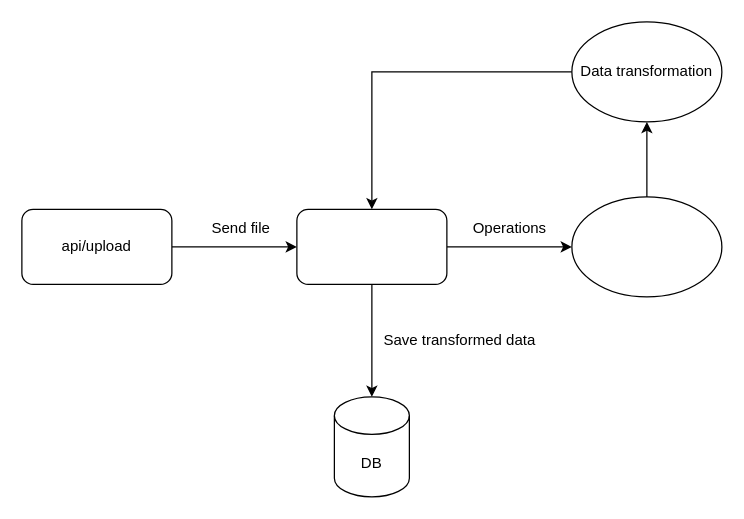
Image size: 744x519. Some labels were removed from this diagram. The centre of each missing label's shape, as x and y in pixels:
EpubProcessor: the point at 371,246
Unpack File: the point at 646,246
